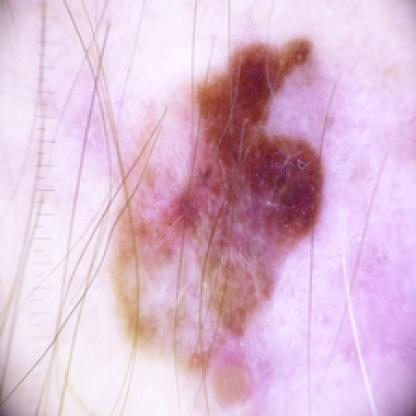Skin_Cancer-Malignant: (110, 33, 320, 412)
